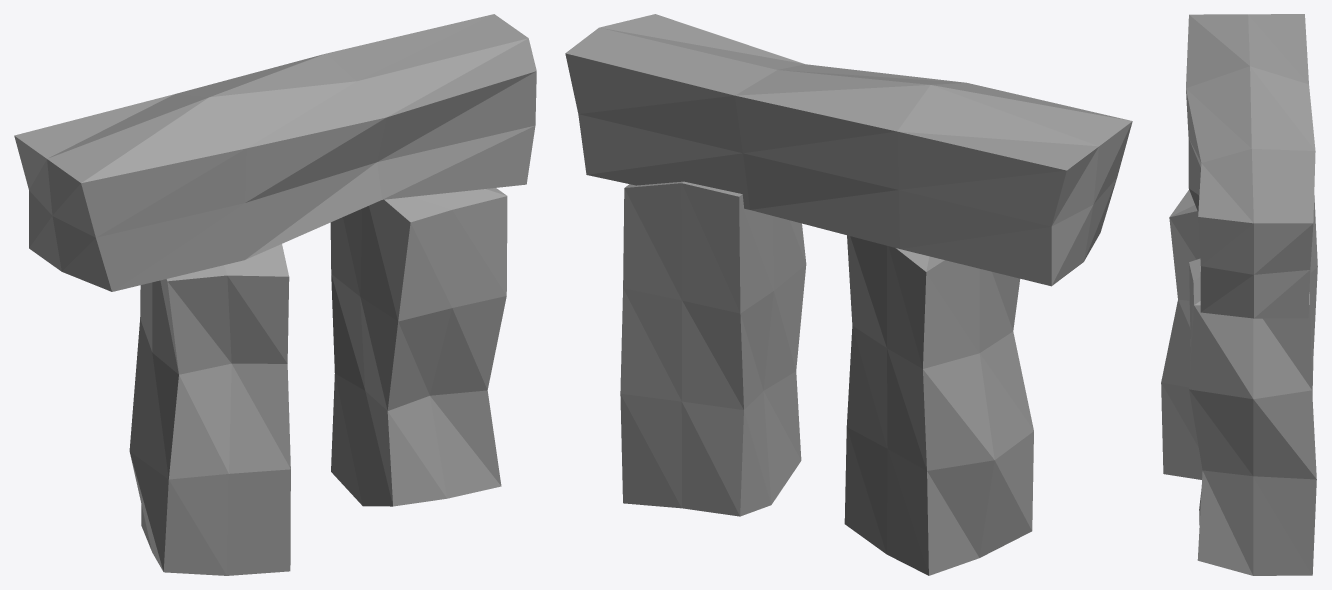
The model's file is Isl_12_Stones_3.fbx.
3 views of the same model, side by side, from view 1: azimuth 30°, elevation 25°; view 2: azimuth 150°, elevation 25°; view 3: azimuth 270°, elevation 25° (orthographic). The views are drawn at different scales.
Parts seen in each view (by area): view 1: Isl_12_Stones_3; view 2: Isl_12_Stones_3; view 3: Isl_12_Stones_3.
Boxes of the visible parts, <box> form: Isl_12_Stones_3: <box>14,14,536,575</box>; Isl_12_Stones_3: <box>565,14,1132,575</box>; Isl_12_Stones_3: <box>1161,14,1317,575</box>.
Bounding box in the file's own units: 741 × 234 × 652.
Materials: 1 (1 with a texture image).
